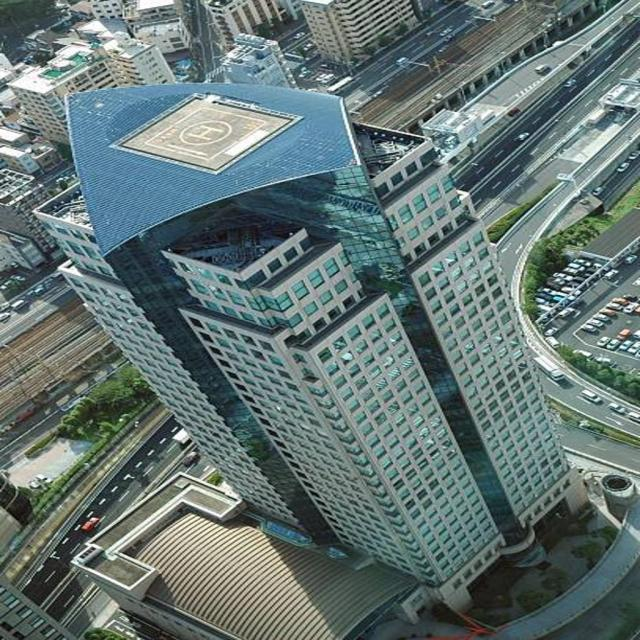helipad: (178, 119, 232, 145)
